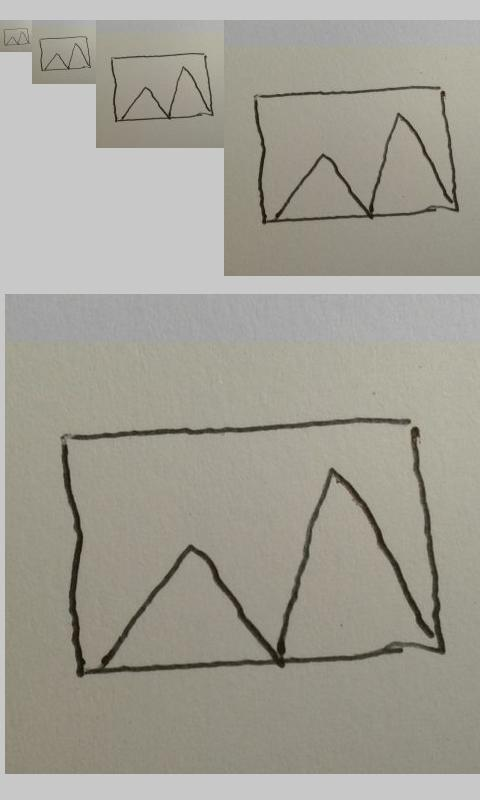image_view: (57, 414, 448, 679), (252, 85, 459, 225), (110, 51, 215, 123), (39, 35, 91, 71), (3, 28, 29, 46)
